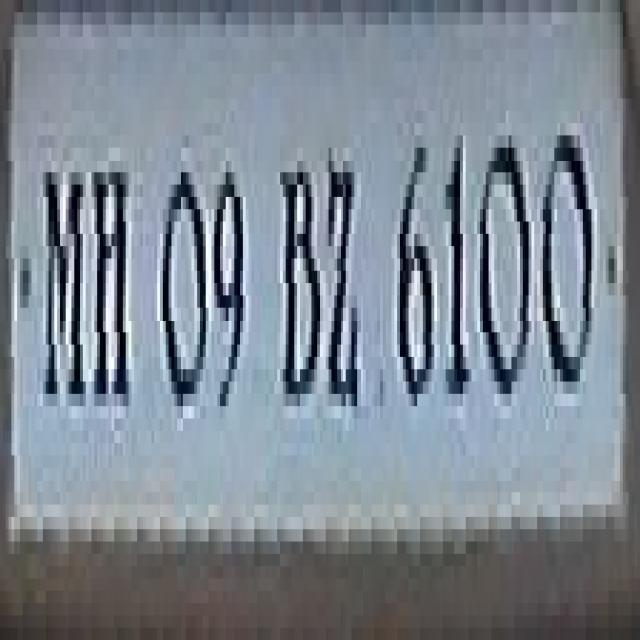license_plate: (28, 0, 640, 566)
